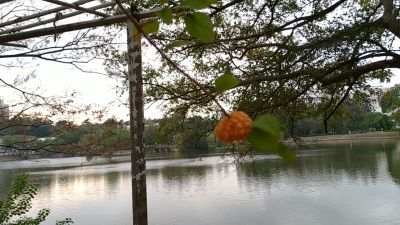eggs: (215, 109, 253, 145)
